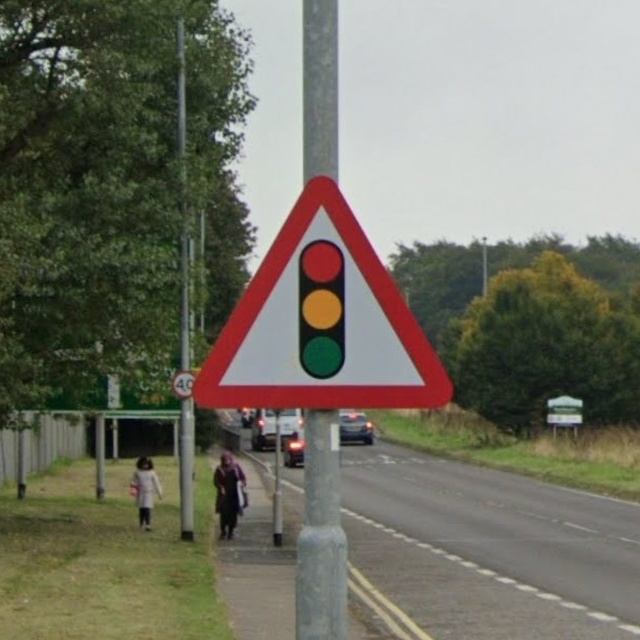Traffic lights: (187, 173, 454, 409)
